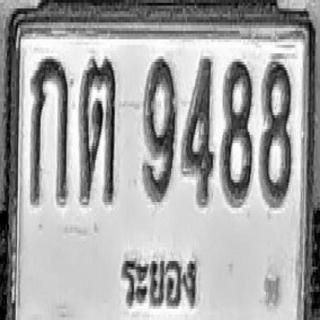A01: (30, 56, 68, 205)
A21: (80, 58, 116, 204)
N04: (182, 56, 214, 205)
N08: (260, 58, 292, 206), (221, 58, 252, 204)
N09: (143, 57, 176, 201)
P53: (117, 245, 203, 318)
